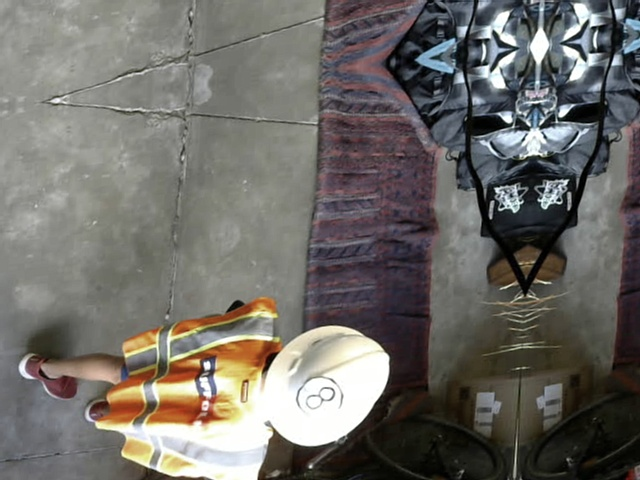eight: (295, 372, 344, 420)
